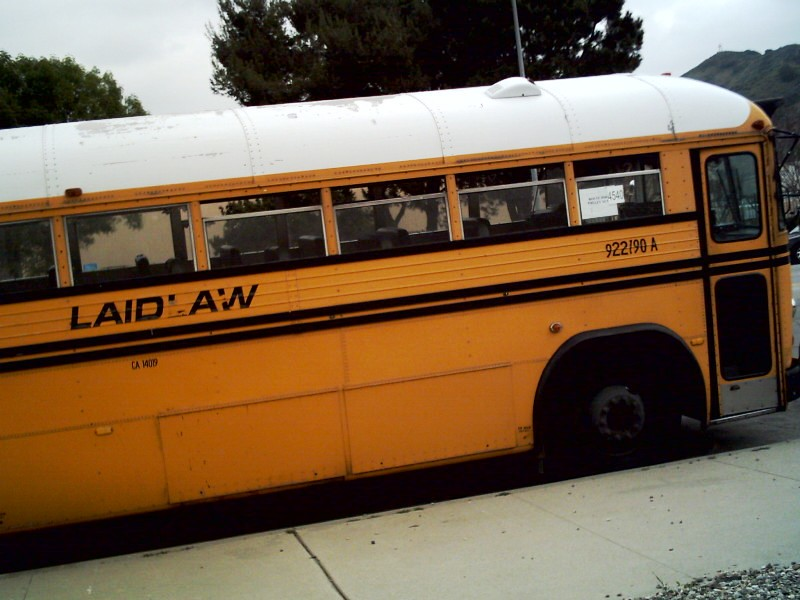bus: (7, 66, 792, 505)
